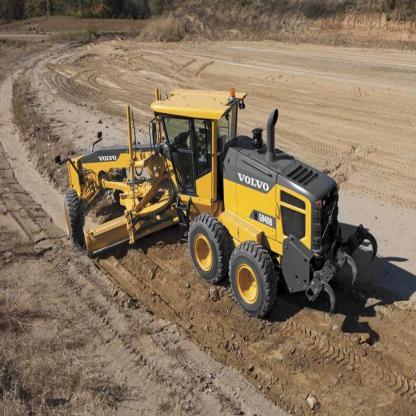bull_dozer/loader/grader: (56, 72, 373, 322)
